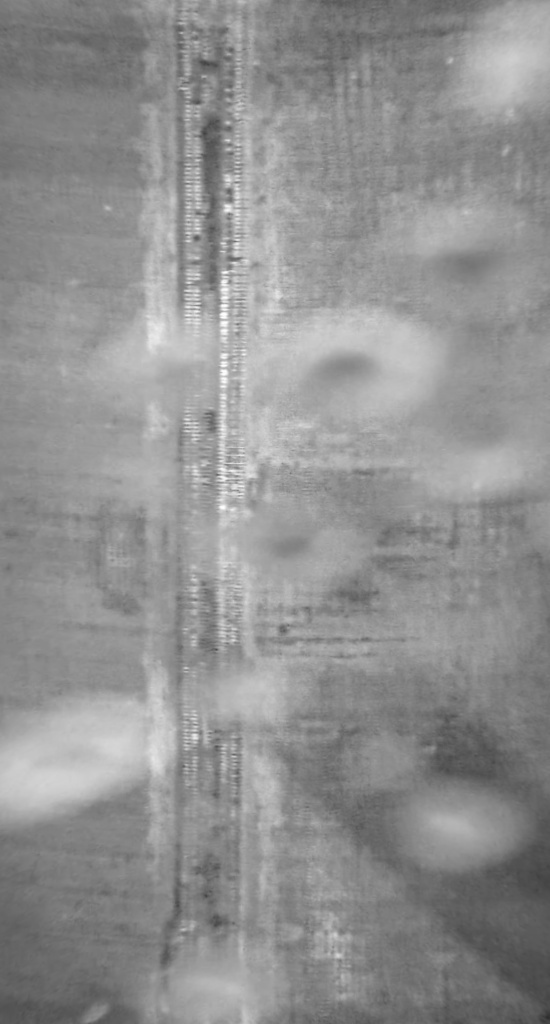splice: (151, 1, 254, 1024)
